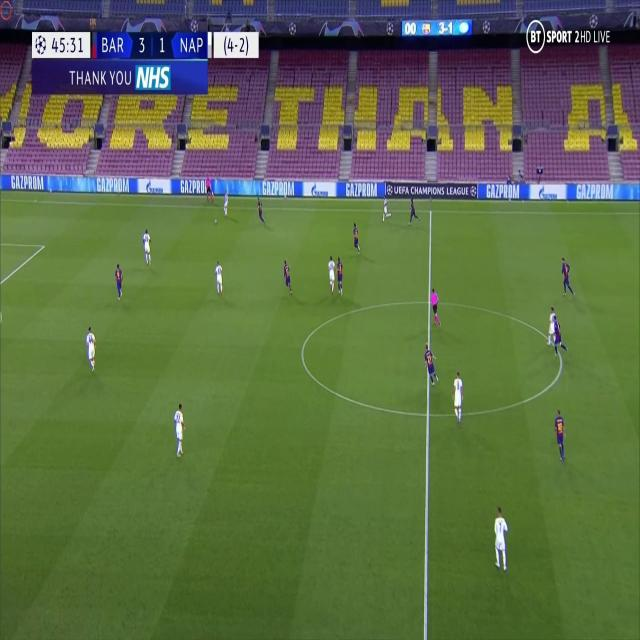ball: (213, 217, 218, 223)
player: (492, 503, 510, 573), (172, 400, 186, 458), (553, 408, 567, 462), (423, 345, 440, 386), (452, 367, 464, 424), (84, 322, 97, 373), (553, 310, 568, 354), (559, 257, 575, 298), (429, 285, 442, 328), (113, 261, 124, 300), (546, 307, 556, 348), (326, 253, 336, 294), (214, 257, 224, 298), (282, 258, 293, 295), (142, 226, 152, 265), (350, 220, 361, 255), (336, 254, 345, 296), (408, 194, 419, 224), (381, 191, 391, 220), (205, 174, 214, 206), (256, 196, 266, 224), (222, 184, 229, 216)
